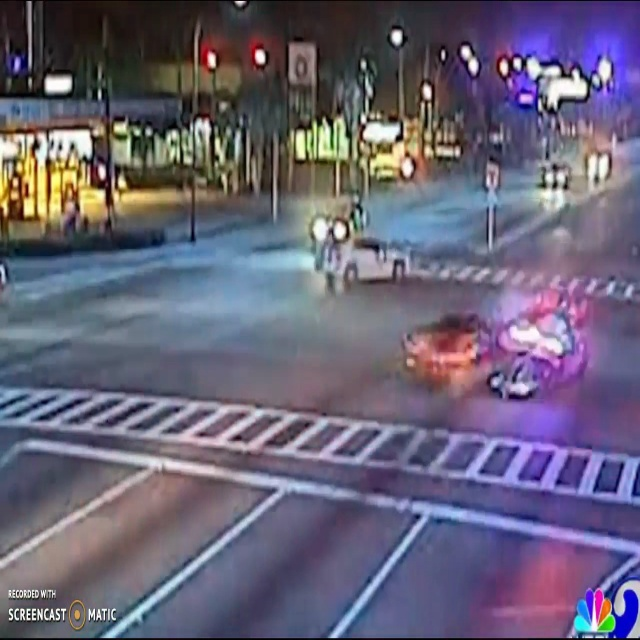acc: (399, 293, 586, 396)
